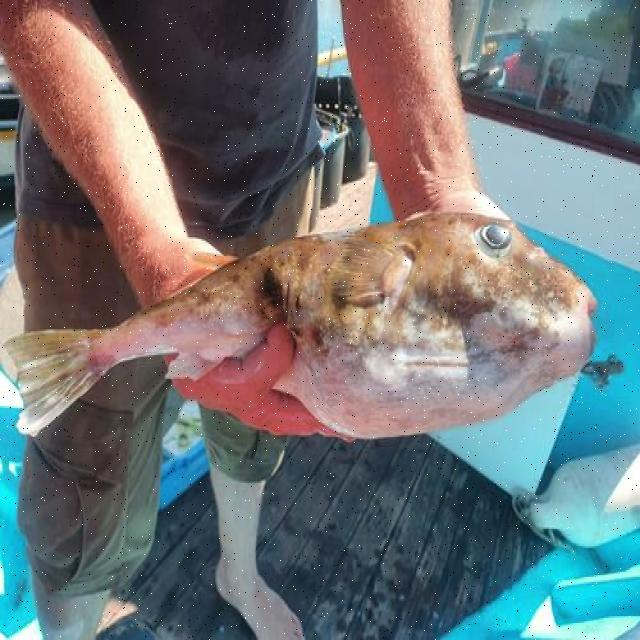Balik: (6, 214, 595, 438)
